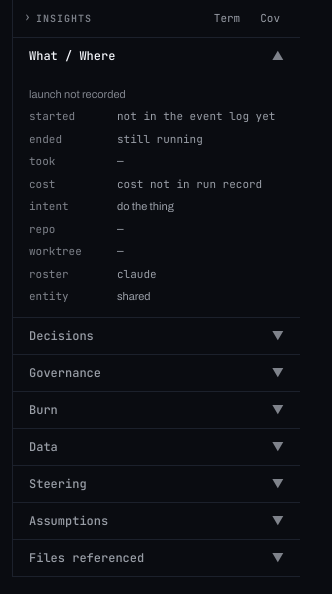
RightPanel Files — the Full diff on the EMPTY state (F-7R2-013) › an ACTIVE run with no files yet keeps "No files changed yet." and the affordance
The image size is (332, 594).
Click the button "Files referenced ▼": coordinates (87, 558) [13, 540, 300, 576]
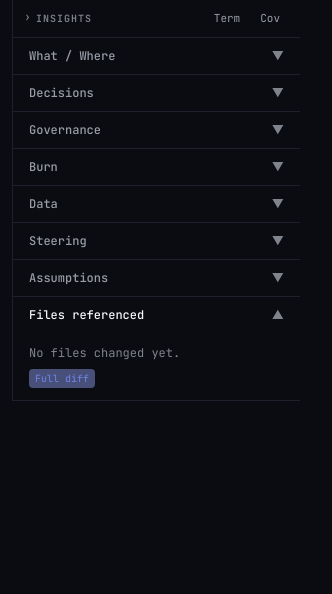
Expected: the element with test id "files-empty" does not show "open the full diff", [29, 344, 180, 388]
Result: the element with test id "files-empty" shows "No files changed yet." at [29, 344, 180, 360]
Result: the button with test id "files-full-diff" is shown at [29, 368, 95, 388]
